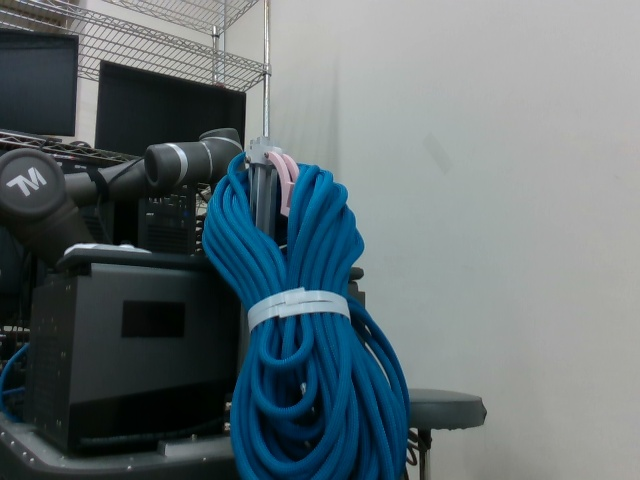rope: (207, 154, 408, 480)
